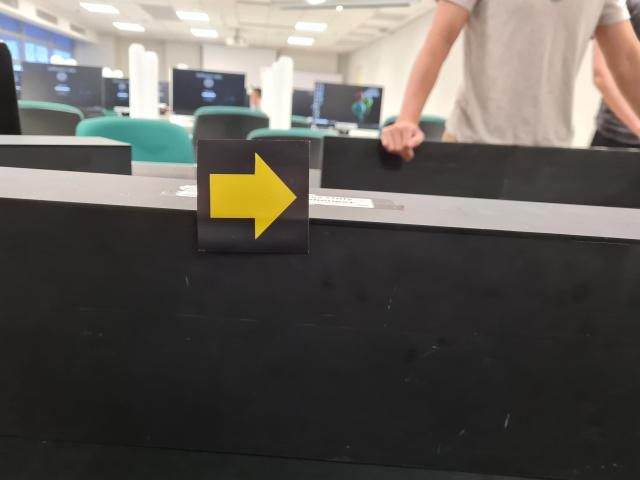right: (196, 139, 311, 257)
